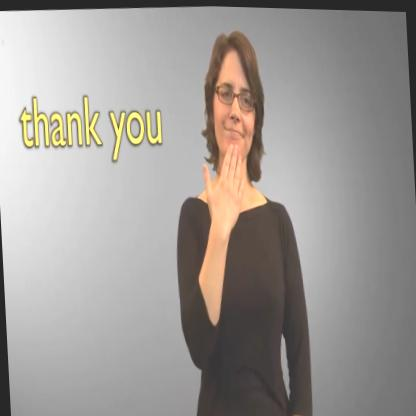ThankYou: (154, 15, 283, 373)
